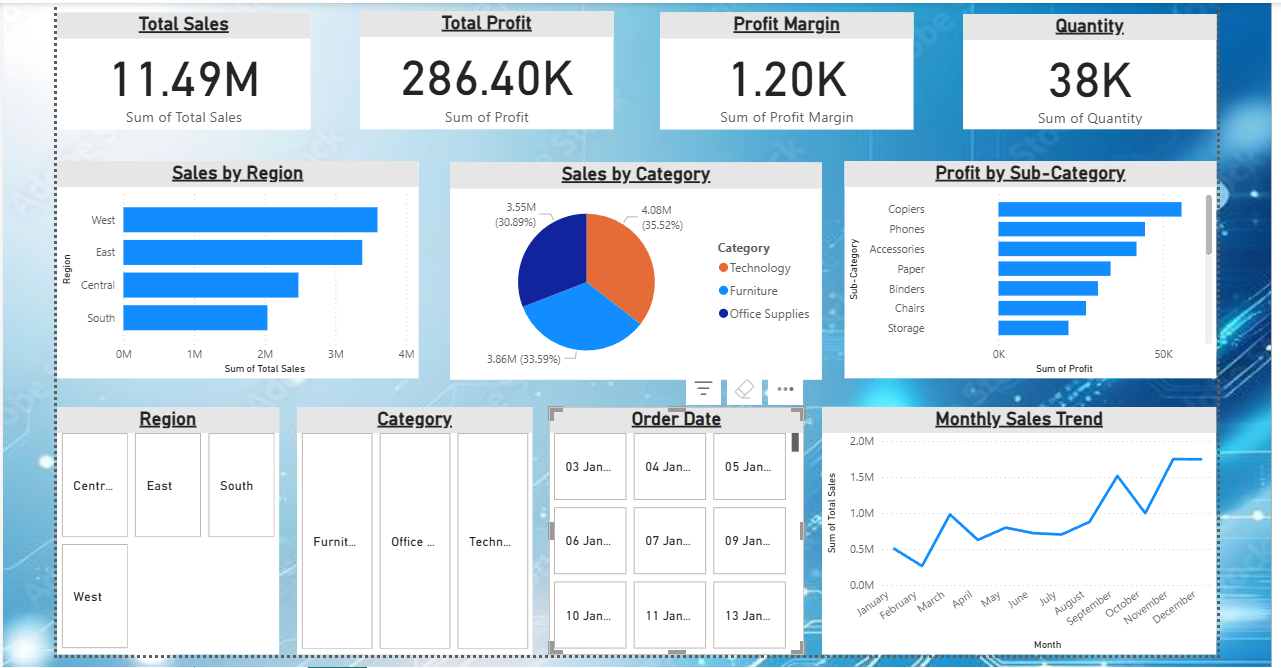

This screenshot's page, from the dashboard's own definition file:
{"tool":"powerbi","page":{"name":"Page 1","canvas":[1280,720],"ordinal":0},"visuals":[{"type":"card","title":"Total Sales","fields":{"Values":["Sum(update dataset 2.Total Sales)"]},"box":[0,11.6,279.9,129.2],"z":0},{"type":"card","title":"Total Profit","fields":{"Values":["Sum(update dataset 2.Profit)"]},"box":[334.6,9.9,279.9,130.9],"z":1000},{"type":"card","title":"Profit Margin","fields":{"Values":["Sum(update dataset 2.Profit Margin)"]},"box":[665.9,11.6,279.9,129.2],"z":2000},{"type":"card","title":"Quantity","fields":{"Values":["Sum(update dataset 2.Quantity)"]},"box":[1000.5,13.3,279.9,127.5],"z":3000},{"type":"clusteredBarChart","title":"Sales by Region","fields":{"Category":["update dataset 2.Region"],"Y":["Sum(update dataset 2.Total Sales)"]},"box":[0,175.6,399.2,240.2],"z":4000},{"type":"pieChart","title":"Sales by Category","fields":{"Category":["update dataset 2.Category"],"Y":["Sum(update dataset 2.Total Sales)"]},"box":[434,177.2,410.8,240.2],"z":5000},{"type":"lineChart","title":"Monthly Sales Trend","fields":{"Category":["update dataset 2.Order Date.Variation.Date Hierarchy.Month"],"Y":["Sum(update dataset 2.Total Sales)"]},"box":[844.8,447.2,435.7,273.3],"z":5001},{"type":"barChart","title":"Profit by Sub-Category","fields":{"Category":["update dataset 2.Sub-Category"],"Y":["Sum(update dataset 2.Profit)"]},"box":[869.7,175.6,410.8,240.2],"z":5002},{"type":"advancedSlicerVisual","title":"Region","fields":{"Values":["update dataset 2.Region"]},"box":[0,447.2,245.2,273.3],"z":5003},{"type":"advancedSlicerVisual","fields":{"Values":["update dataset 2.Category"]},"box":[265,447.2,260.1,273.3],"z":5004},{"type":"advancedSlicerVisual","fields":{"Values":["update dataset 2.Order Date"]},"box":[543.3,447.2,281.6,273.3],"z":5005}]}

Visuals, with their boxes in screenshot pixels (x1, y1, x2, y2):
"Total Sales" card: [left=47, top=4, right=302, bottom=122]
"Total Profit" card: [left=352, top=2, right=608, bottom=122]
"Profit Margin" card: [left=655, top=4, right=911, bottom=122]
"Quantity" card: [left=961, top=5, right=1217, bottom=122]
"Sales by Region" clusteredBarChart: [left=47, top=154, right=412, bottom=373]
"Sales by Category" pieChart: [left=443, top=155, right=819, bottom=375]
"Monthly Sales Trend" lineChart: [left=819, top=402, right=1217, bottom=652]
"Profit by Sub-Category" barChart: [left=841, top=154, right=1217, bottom=373]
"Region" advancedSlicerVisual: [left=47, top=402, right=271, bottom=652]
advancedSlicerVisual - update dataset 2.Category: [left=289, top=402, right=527, bottom=652]
advancedSlicerVisual - update dataset 2.Order Date: [left=543, top=402, right=801, bottom=652]
